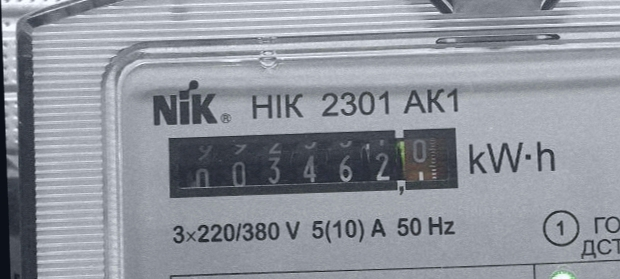0: (229, 156, 248, 186), (411, 135, 429, 164), (191, 164, 211, 187)
2: (373, 148, 392, 181)
3: (264, 153, 283, 186)
4: (301, 151, 319, 184)
6: (335, 150, 356, 184)
9: (194, 142, 214, 161)
screen: (155, 114, 470, 215)
